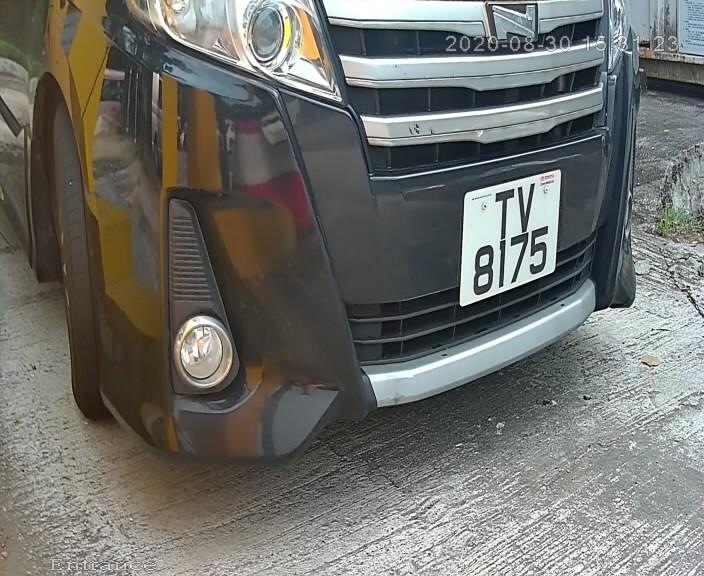License Plate: (453, 163, 569, 314)
